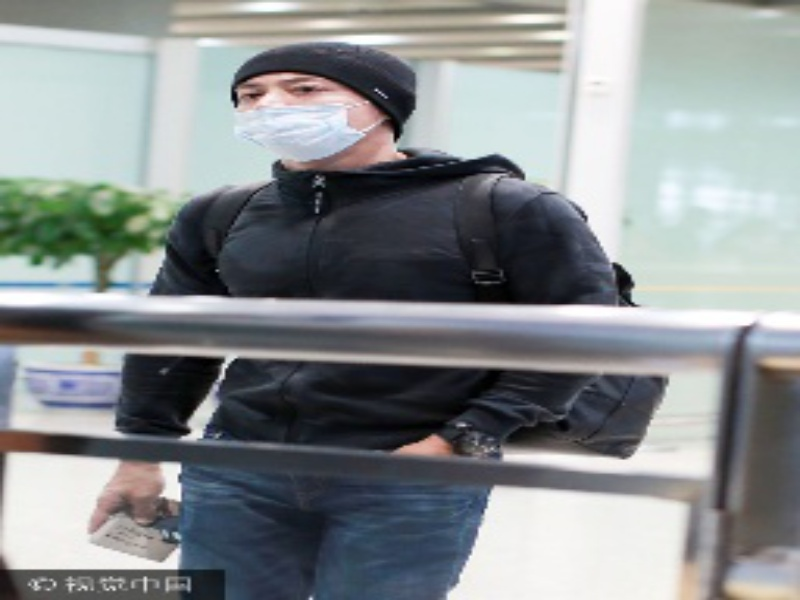ManaoArotava: (212, 37, 422, 188)
